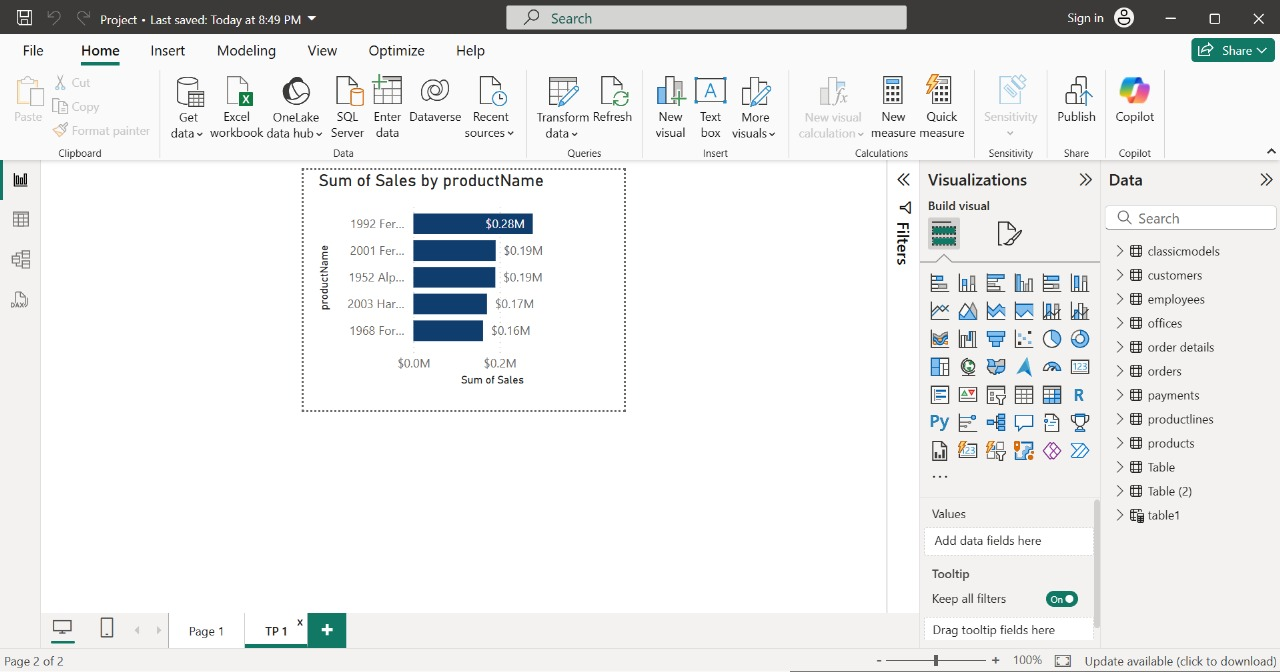

The page's visual inventory and layout, read from the dashboard file:
{"tool":"powerbi","page":{"name":"TP 1","canvas":[320,240],"ordinal":1},"visuals":[{"type":"barChart","fields":{"Y":["Sum(order details.Sales)"],"Category":["products.productName"]},"box":[10,0,280,220],"z":0}]}

Visuals, with their boxes on the page's 320x240 design canvas (x1, y1, x2, y2). These are canvas units, not pixel positions in the 1280x672 screenshot, which may show the page scaled, cropped or inside an application window:
barChart - Sum(order details.Sales) x products.productName: (10, 0, 290, 220)
